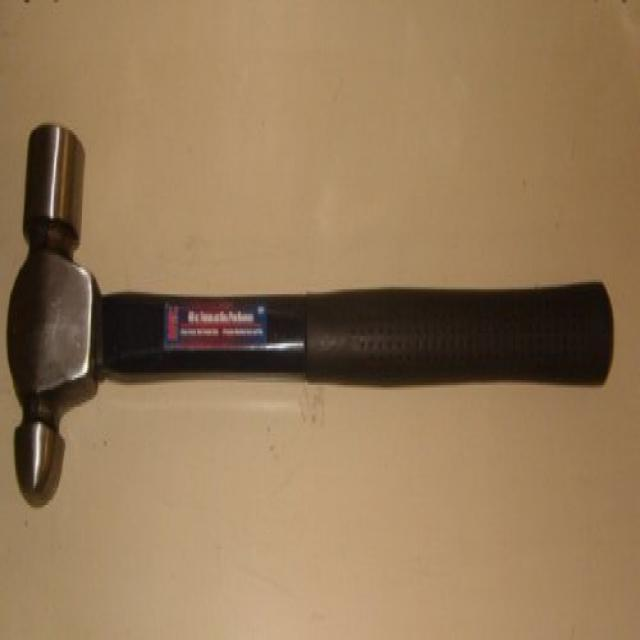hammer: (0, 98, 630, 537)
